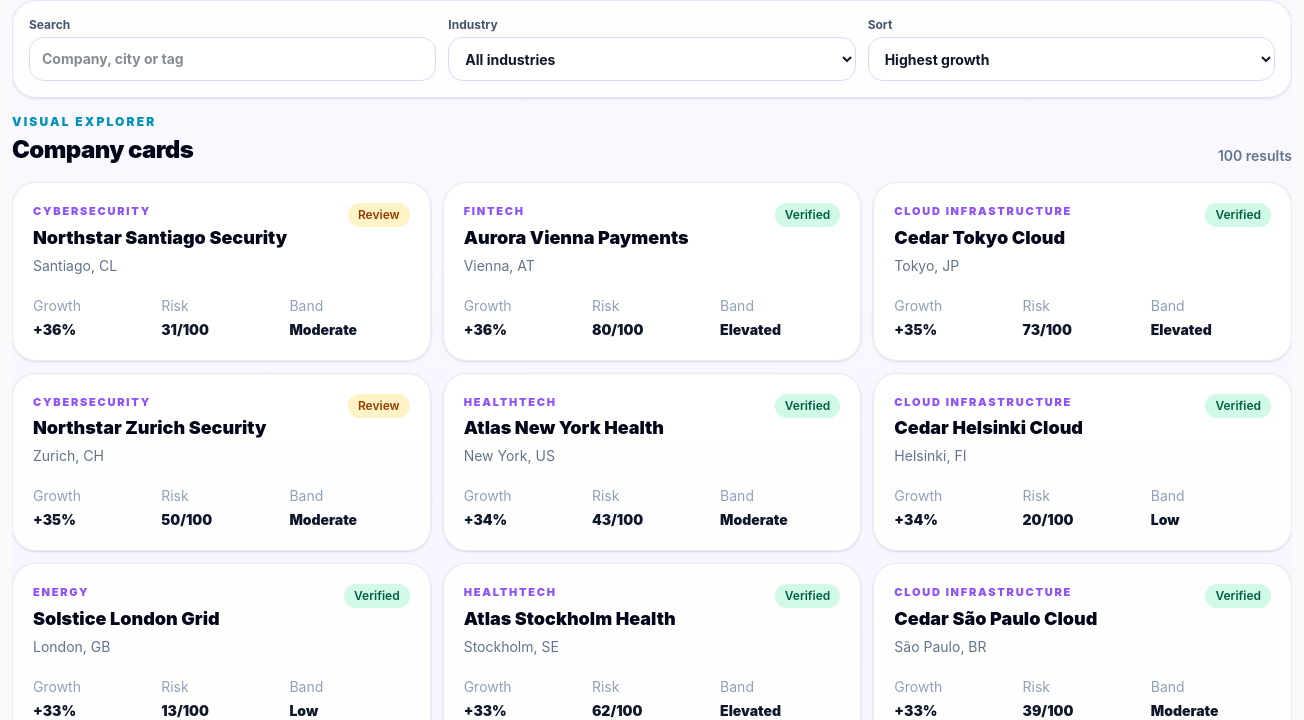
CompanyCardGrid › filters the visual explorer while retaining semantic company links
Check: the text "100 results" is shown, box [1218,146,1292,166]
Type "Northstar Berlin" into the field with placeholder "Company, city or tag" at [233, 59], box [29,37,436,81]
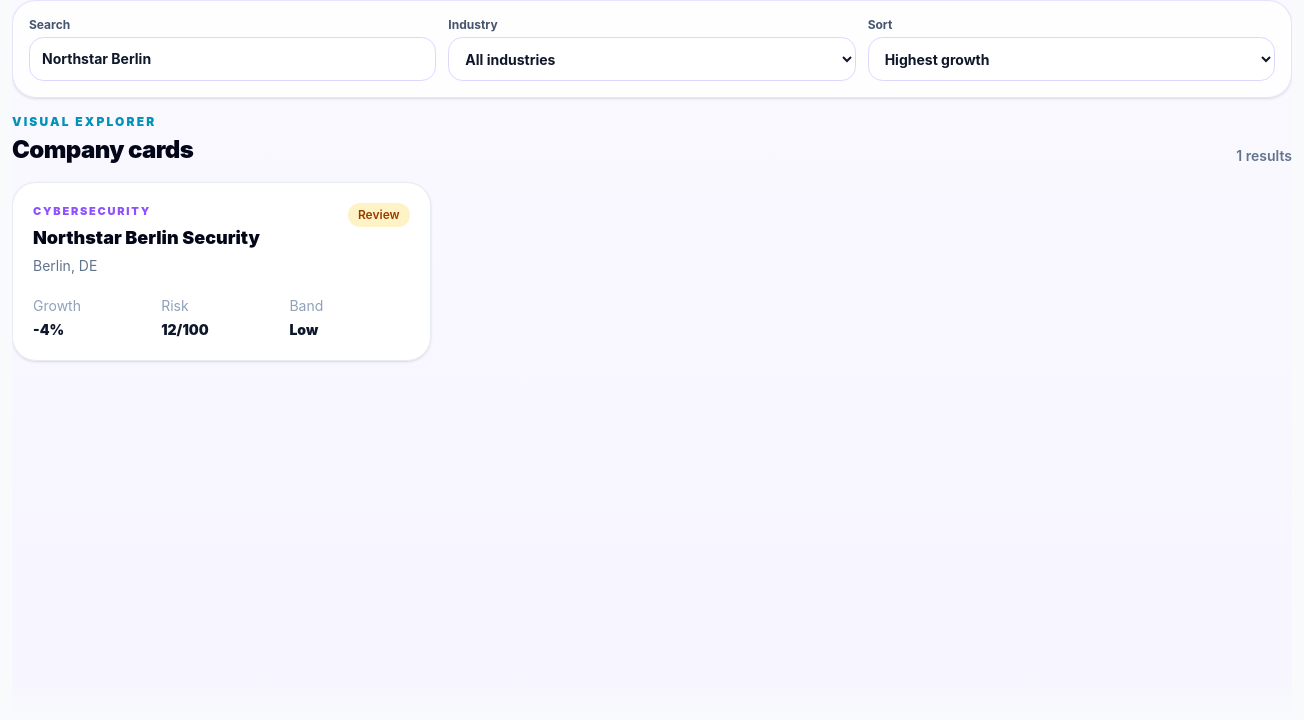
Check: the text "1 results" is shown, box [1236,146,1292,166]
